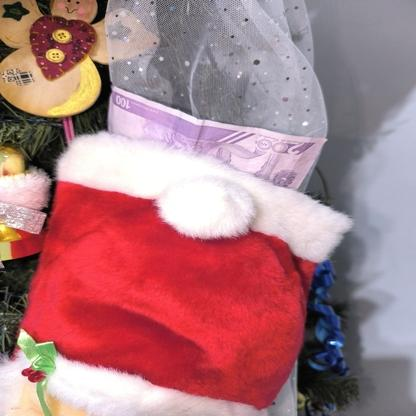vef_back: (107, 87, 328, 190)
